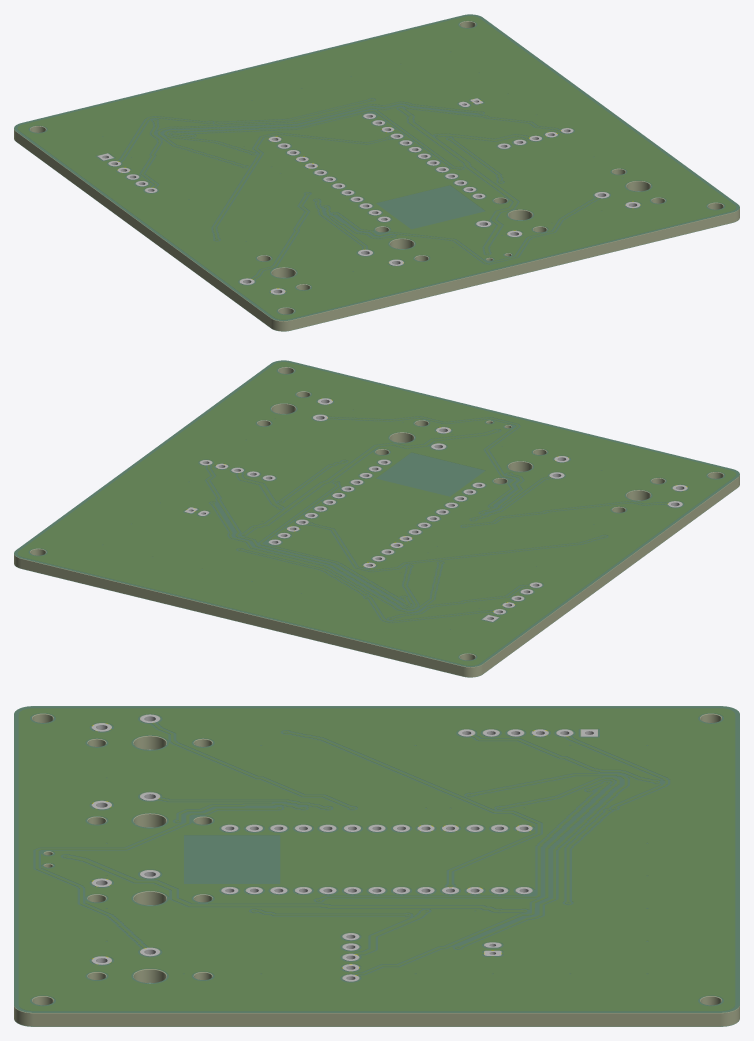
File: board.glb
3 views of the same model, one above another, from view 1: azimuth 30°, elevation 25°; view 2: azimuth 150°, elevation 25°; view 3: azimuth 270°, elevation 25° (orthographic). The views are drawn at different scales.
Visible parts, largest first — view 1: =>[0:1:1:5], =>[0:1:1:2], =>[0:1:1:7], =>[0:1:1:3], =>[0:1:1:6]; view 2: =>[0:1:1:5], =>[0:1:1:2], =>[0:1:1:7], =>[0:1:1:3], =>[0:1:1:6]; view 3: =>[0:1:1:5], =>[0:1:1:2], =>[0:1:1:7], =>[0:1:1:3], =>[0:1:1:6].
Part boxes in pixels (x1,y1,x2,y2): =>[0:1:1:5]: [14, 14, 739, 321]; =>[0:1:1:2]: [18, 16, 735, 319]; =>[0:1:1:7]: [14, 15, 739, 331]; =>[0:1:1:3]: [97, 98, 639, 294]; =>[0:1:1:6]: [14, 140, 739, 331]; =>[0:1:1:5]: [14, 360, 739, 667]; =>[0:1:1:2]: [18, 362, 735, 665]; =>[0:1:1:7]: [14, 361, 739, 677]; =>[0:1:1:3]: [185, 398, 687, 621]; =>[0:1:1:6]: [14, 413, 739, 677]; =>[0:1:1:5]: [14, 706, 739, 1012]; =>[0:1:1:2]: [19, 709, 734, 1010]; =>[0:1:1:7]: [14, 707, 739, 1026]; =>[0:1:1:3]: [92, 714, 597, 981]; =>[0:1:1:6]: [14, 749, 739, 1026].
Bounding box in the file's own units: 0.0752 × 0.00161 × 0.0752.
